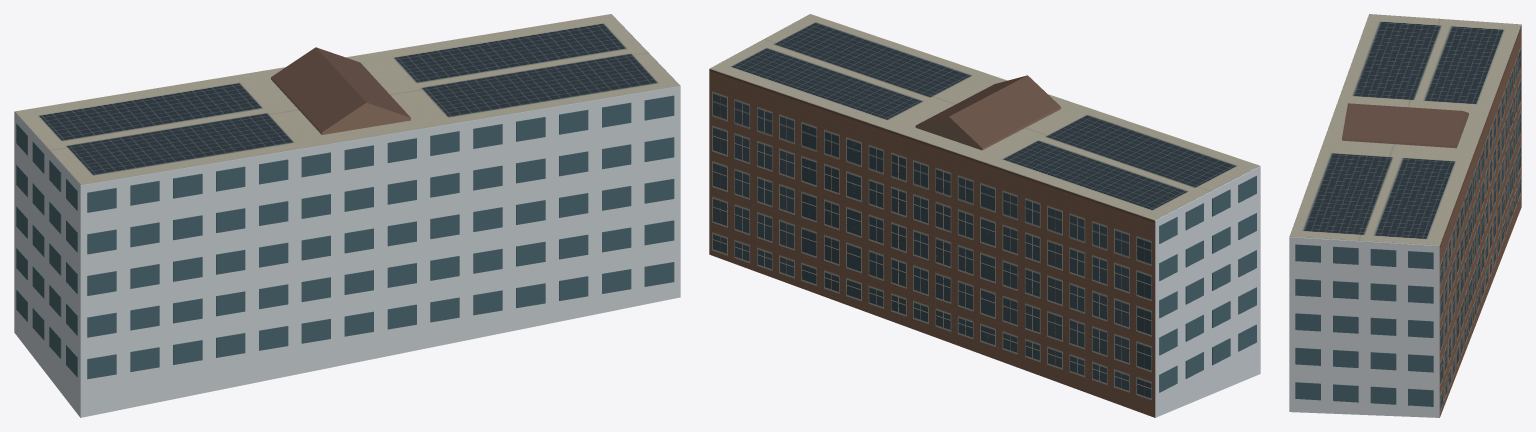
File: fragments.glb
The picture shows the model from 3 angles, left to right: view 1: azimuth 30°, elevation 25°; view 2: azimuth 150°, elevation 25°; view 3: azimuth 270°, elevation 25°; orthographic projection. The views are drawn at different scales.
Visible parts, largest first — view 1: SM_grad_Fragment_004, SM_grad_Fragment_010, SM_grad_Fragment_016, SM_grad_Fragment_009, SM_grad_Fragment_020, SM_grad_Fragment_019, SM_grad_Fragment_022, SM_grad_Fragment_051, SM_grad_Fragment_008, SM_grad_Fragment_013, SM_grad_Fragment_034, SM_grad_Fragment_027 (+25 smaller); view 2: SM_grad_Fragment_024, SM_grad_Fragment_001, SM_grad_Fragment_038, SM_grad_Fragment_046, SM_grad_Fragment_012, SM_grad_Fragment_006, SM_grad_Fragment_014, SM_grad_Fragment_026, SM_grad_Fragment_039, SM_grad_Fragment_060, SM_grad_Fragment_011, SM_grad_Fragment_028 (+24 smaller); view 3: SM_grad_Fragment_021, SM_grad_Fragment_005, SM_grad_Fragment_003, SM_grad_Fragment_014, SM_grad_Fragment_026, SM_grad_Fragment_015, SM_grad_Fragment_040, SM_grad_Fragment_041, SM_grad_Fragment_038, SM_grad_Fragment_025, SM_grad_Fragment_046, SM_grad_Fragment_001 (+27 smaller).
Boxes of the visible parts, x1,y1,x2,y2 form: SM_grad_Fragment_004: (230, 91, 373, 218); SM_grad_Fragment_010: (55, 153, 211, 261); SM_grad_Fragment_016: (534, 76, 640, 217); SM_grad_Fragment_009: (344, 199, 459, 304); SM_grad_Fragment_020: (196, 153, 313, 278); SM_grad_Fragment_019: (362, 93, 471, 204); SM_grad_Fragment_022: (444, 158, 580, 266); SM_grad_Fragment_051: (107, 288, 202, 406); SM_grad_Fragment_008: (505, 222, 605, 332); SM_grad_Fragment_013: (49, 303, 137, 417); SM_grad_Fragment_034: (187, 273, 289, 357); SM_grad_Fragment_027: (602, 220, 680, 312); SM_grad_Fragment_024: (1128, 186, 1230, 322); SM_grad_Fragment_001: (1048, 177, 1154, 279); SM_grad_Fragment_038: (967, 144, 1085, 240); SM_grad_Fragment_046: (824, 99, 930, 195); SM_grad_Fragment_012: (972, 276, 1060, 379); SM_grad_Fragment_006: (1129, 314, 1220, 417); SM_grad_Fragment_014: (709, 104, 787, 208); SM_grad_Fragment_026: (917, 83, 1037, 175); SM_grad_Fragment_039: (1074, 278, 1180, 373); SM_grad_Fragment_060: (722, 69, 842, 148); SM_grad_Fragment_011: (891, 135, 976, 248); SM_grad_Fragment_028: (775, 120, 858, 224); SM_grad_Fragment_021: (1289, 271, 1380, 369); SM_grad_Fragment_005: (1333, 222, 1442, 301); SM_grad_Fragment_003: (1333, 352, 1442, 417); SM_grad_Fragment_014: (1370, 266, 1454, 372); SM_grad_Fragment_026: (1369, 101, 1487, 150); SM_grad_Fragment_015: (1361, 59, 1471, 101); SM_grad_Fragment_040: (1289, 216, 1342, 285); SM_grad_Fragment_041: (1378, 19, 1480, 63); SM_grad_Fragment_038: (1436, 67, 1504, 152); SM_grad_Fragment_025: (1335, 189, 1426, 226); SM_grad_Fragment_046: (1413, 142, 1477, 241); SM_grad_Fragment_001: (1467, 28, 1520, 126).
Bounding box in the file's own units: 2.2 × 0.9453 × 0.9314.
Materials: 8 (2 with a texture image).
